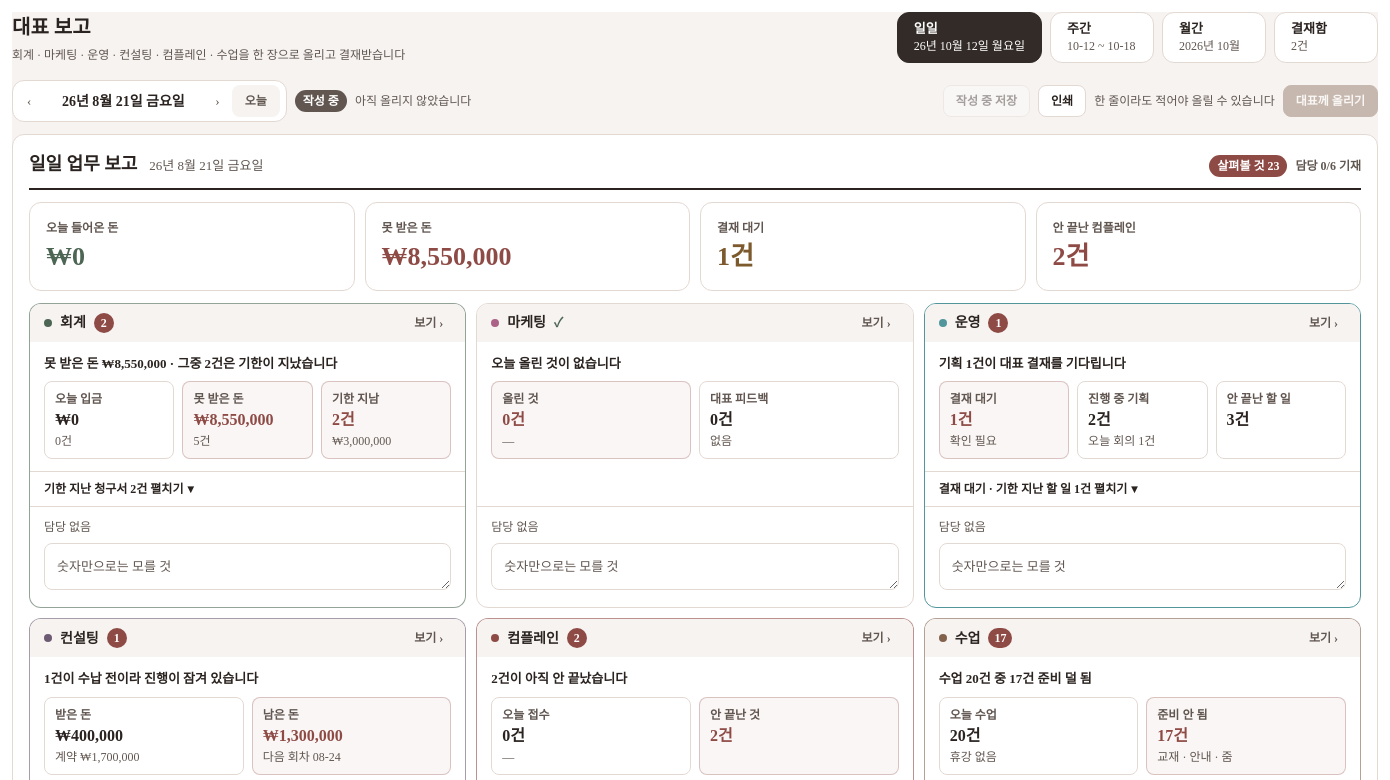
Test case: 여섯 칸은 서버가 준 순서·낱말 그대로 서고, 적으면 「담당 x/6」이 따라 센다
In the text box named "회계 메모": (248, 567) [44,543,451,590], type "기한 지난 청구서 2건"
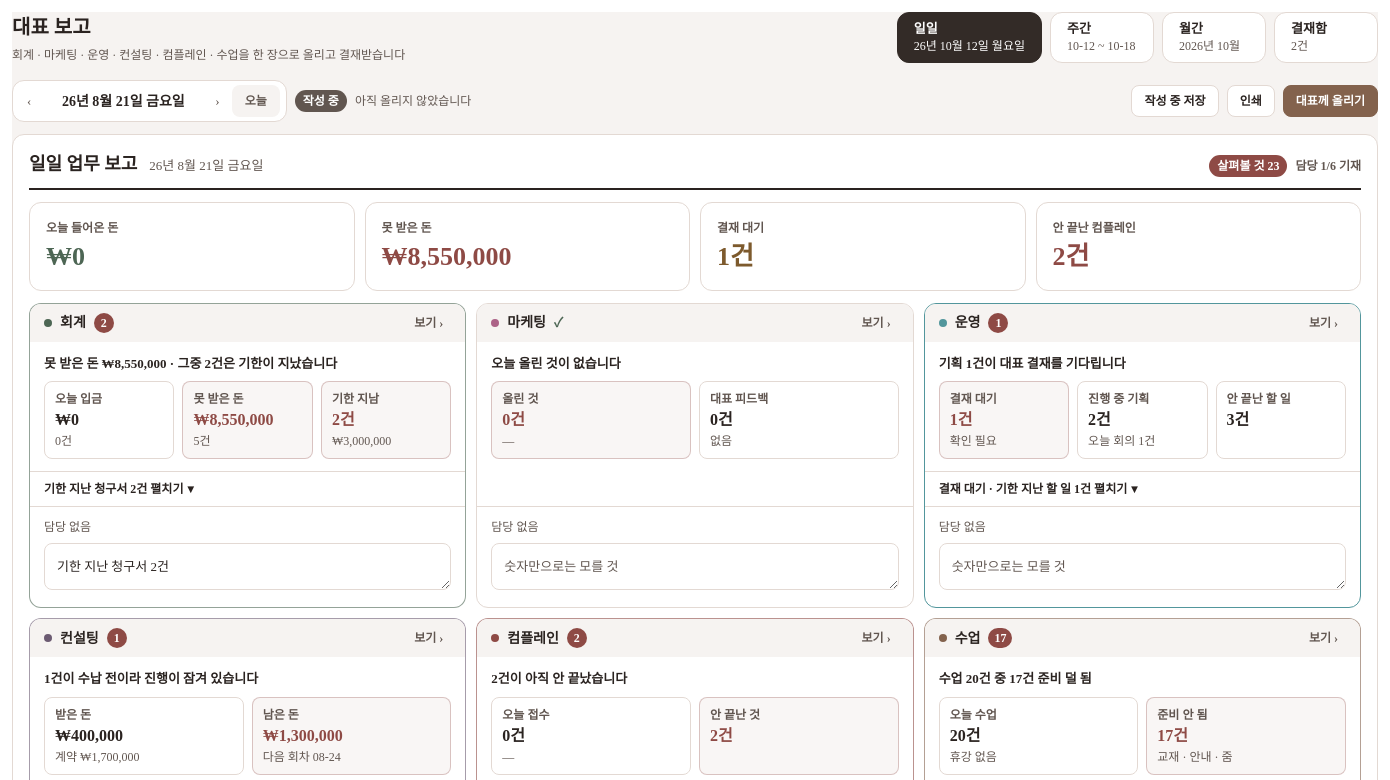
expect the text "담당 1/6 기재" is shown: met, box [1296,157,1361,175]
